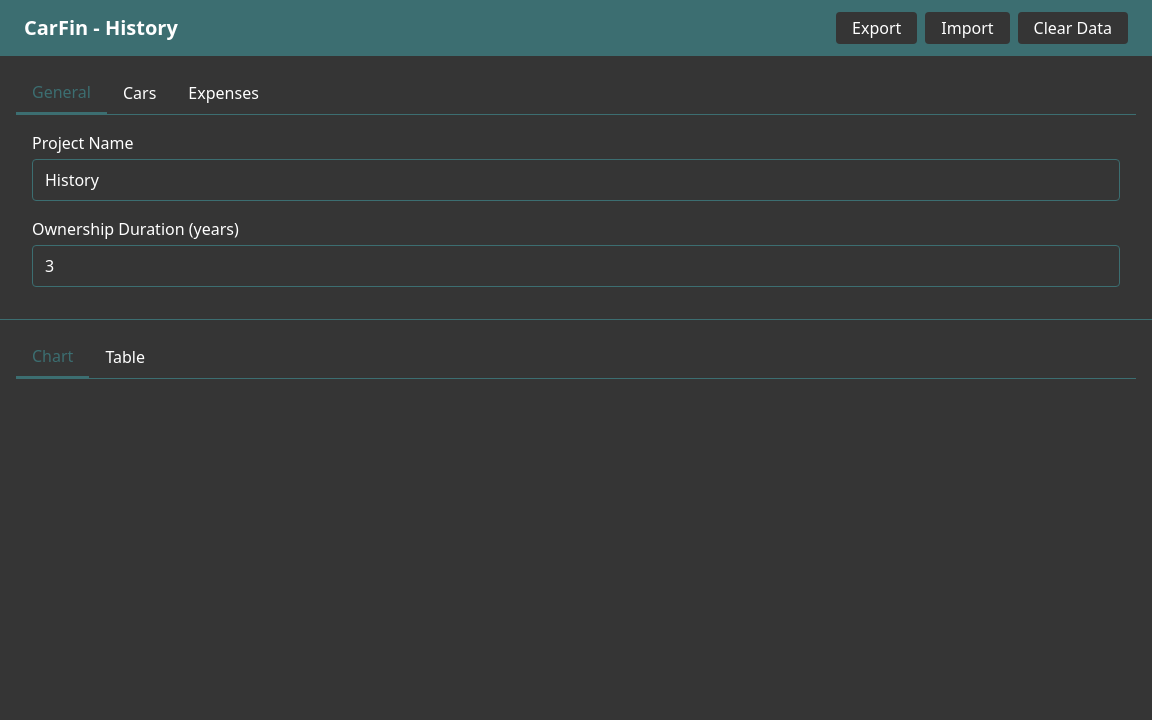
legacy or malformed local maintenance safely retains the annual estimate
This screenshot has width=1152, height=720.
Click the button "Expenses" at {"x": 224, "y": 93}, box [172,72,275,114]
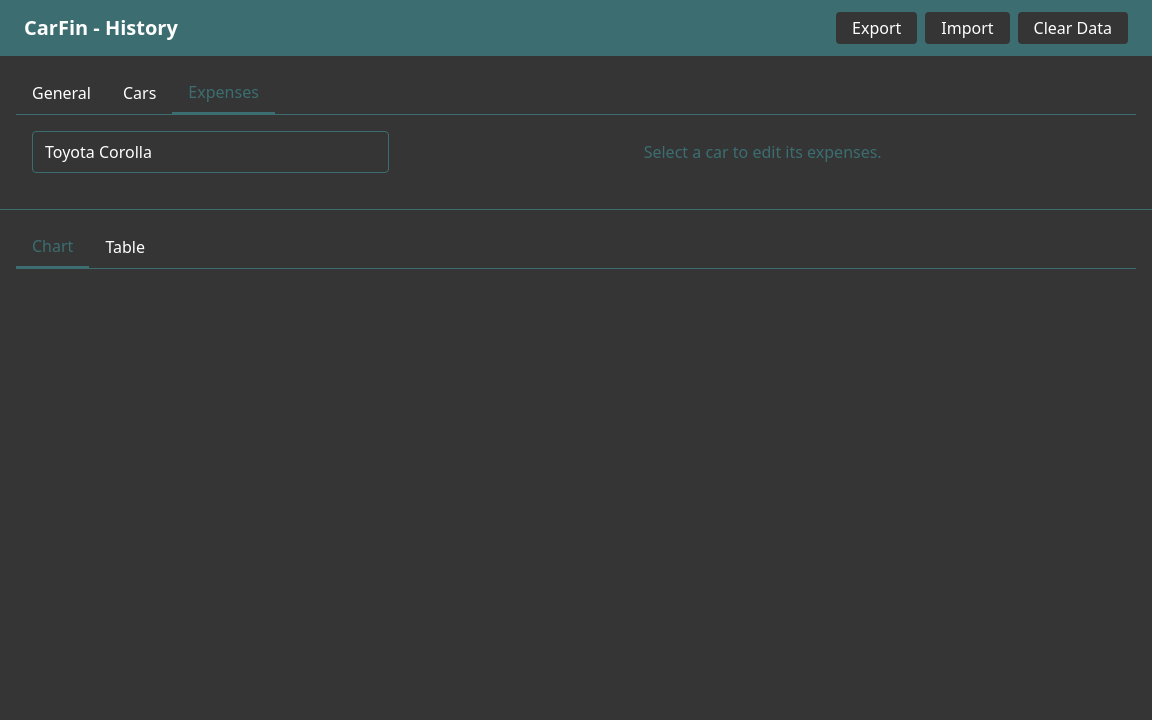
Click the button "Toyota Corolla" at {"x": 98, "y": 152}, box [33,132,388,172]
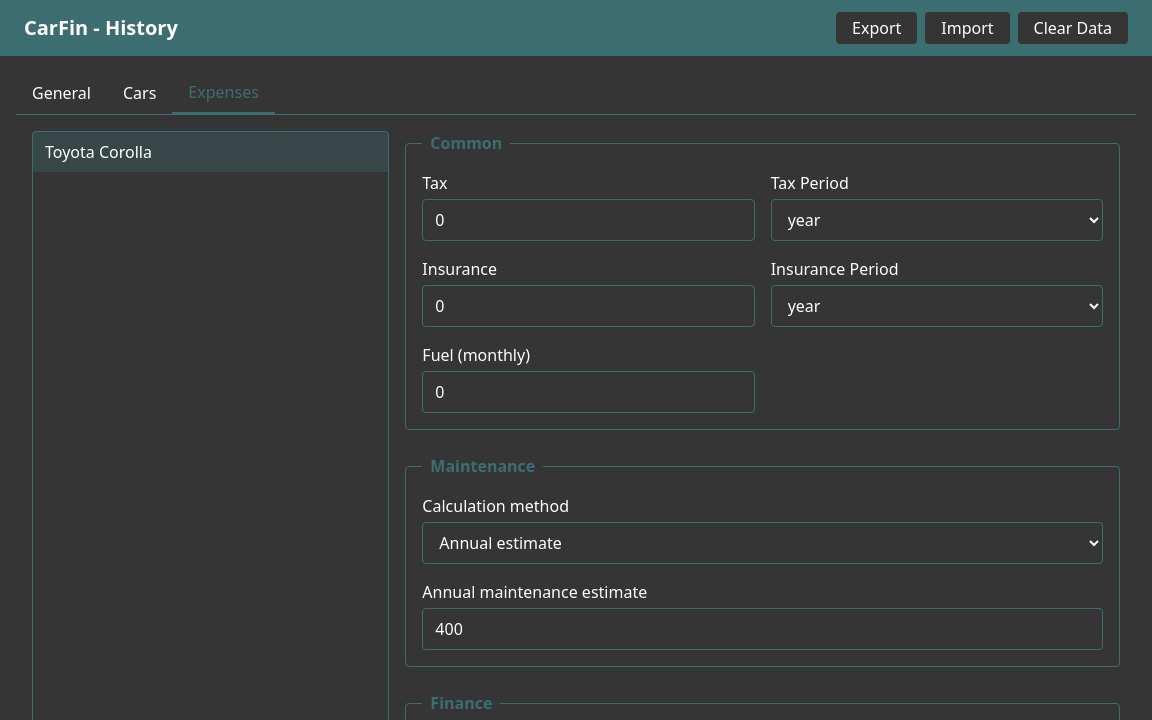
Check: the dropdown labelled "Calculation method" shows "Annual estimate", box [422,522,1103,564]
Check: the number field labelled "Annual maintenance estimate" holds "400", box [422,608,1103,650]
